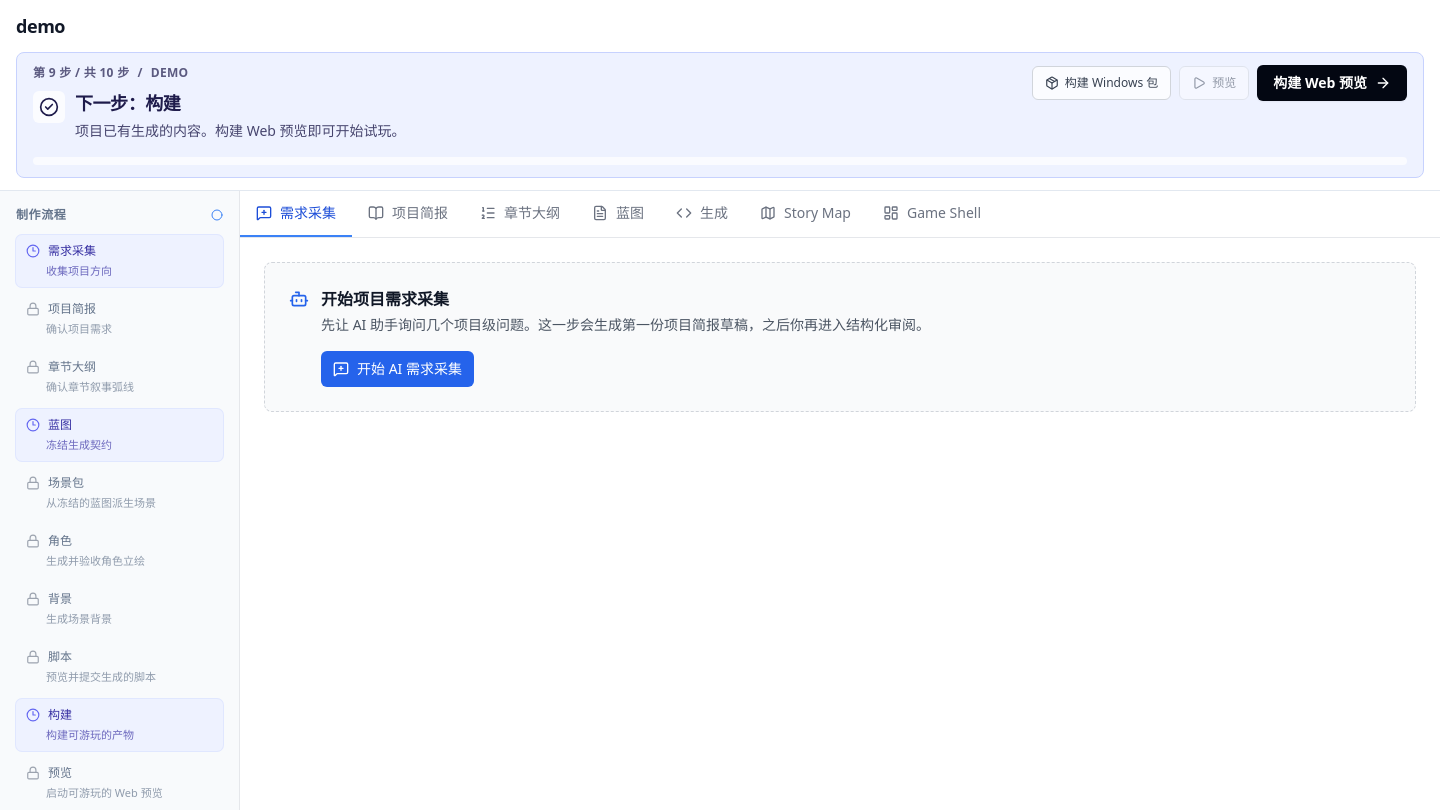
Test: ProjectWorkspacePage scene tab navigation › returns to the previously active tab instead of blueprint when leaving a scene
# Start from the Story Map tab.
Click the button "Story Map": [805, 214] box [744,191,867,237]
(page scrolled)
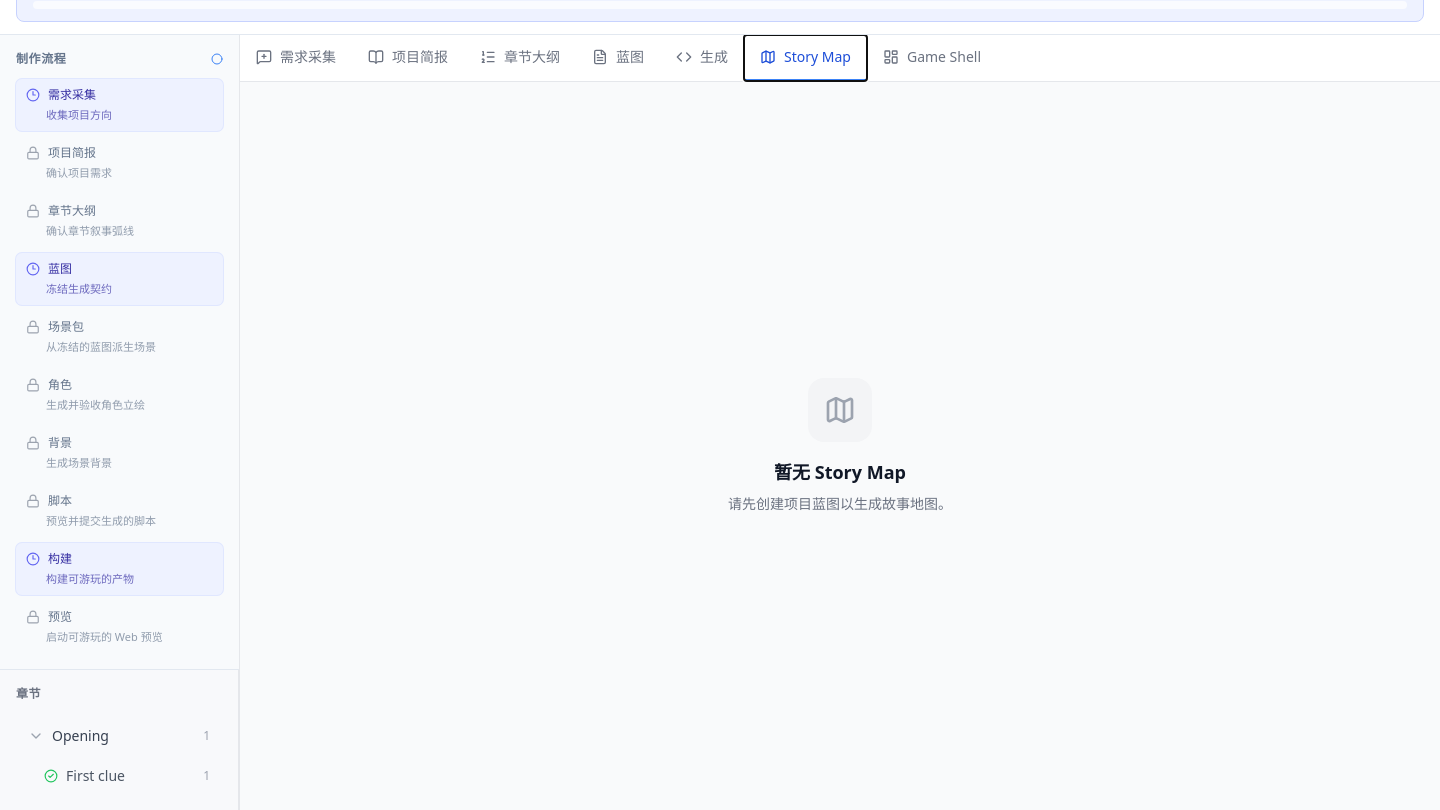
Result: the heading "暂无 Story Map" is shown at [774,460,906,484]
# Select a scene from the rail: the tab bar is taken over.
Click the button "First clue 1": [127, 776] box [32,758,222,794]
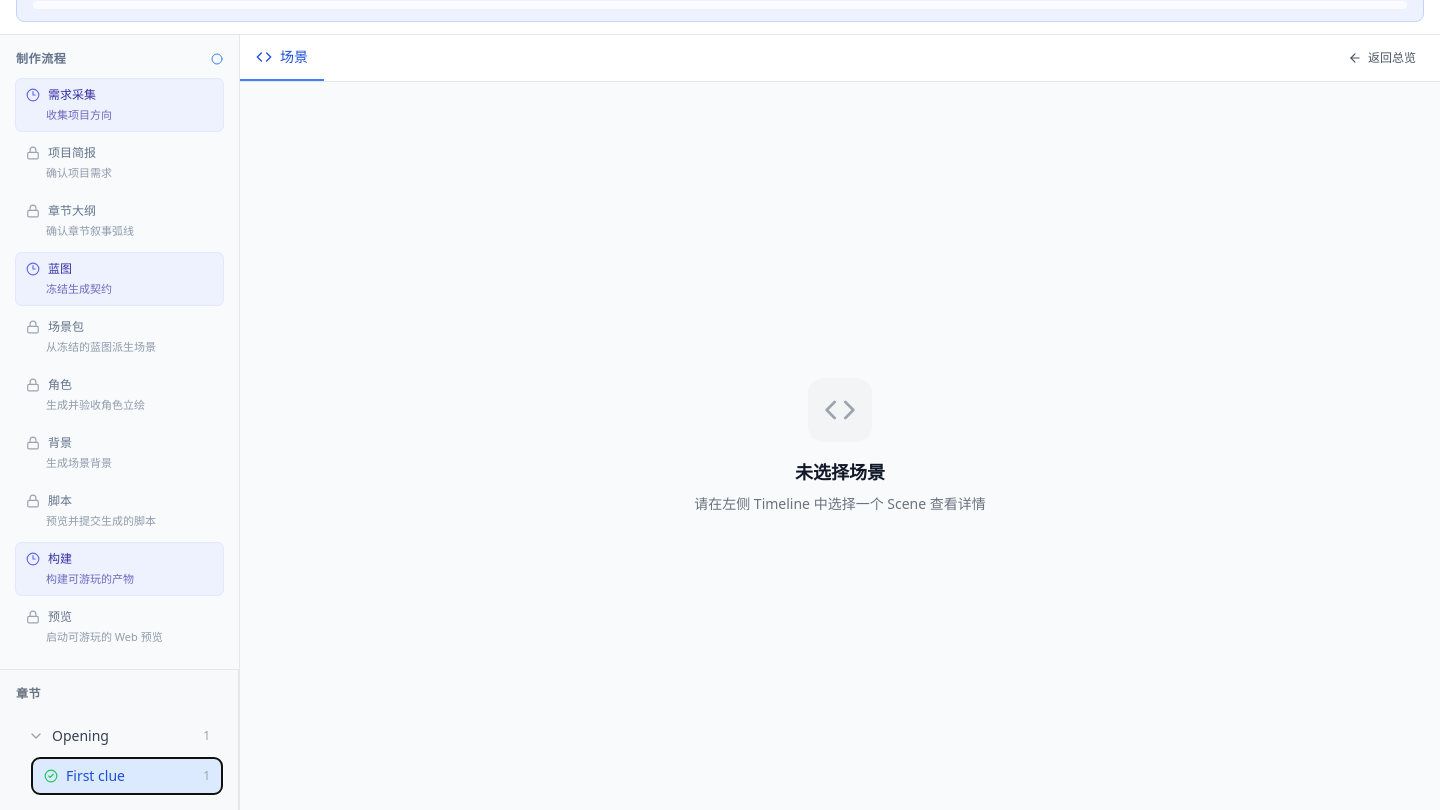
# Back should restore the Story Map tab, not jump to the blueprint tab.
Click the button "返回总览": [1382, 58] box [1340,46,1424,70]
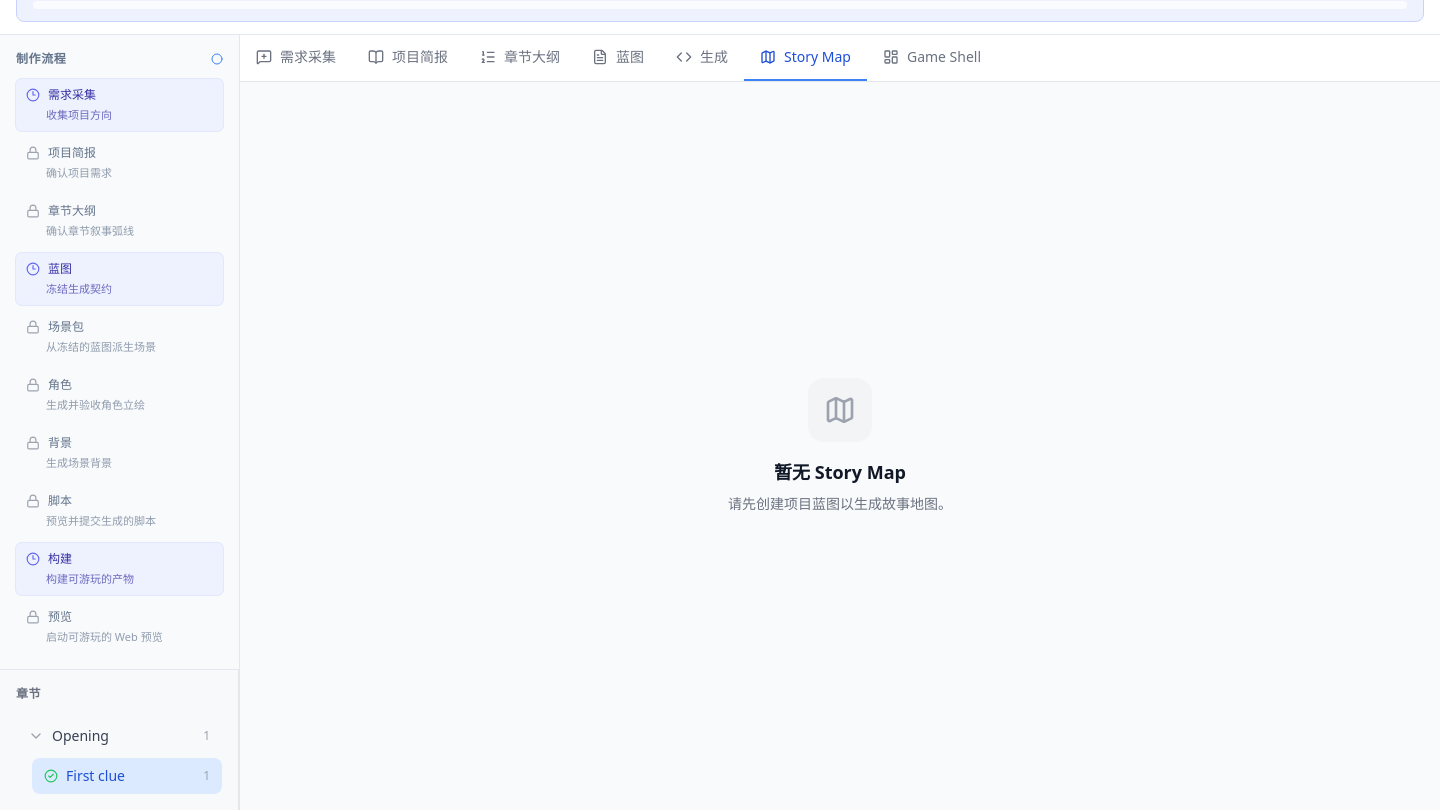
Result: the heading "暂无 Story Map" is shown at [774,460,906,484]
